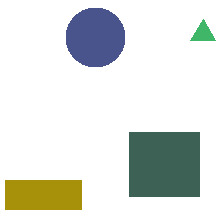circle: (66, 8, 124, 66)
rectangle: (129, 132, 199, 196), (5, 180, 81, 209)
triangle: (190, 19, 215, 40)
